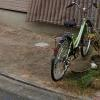bicycles: (52, 1, 98, 81)
